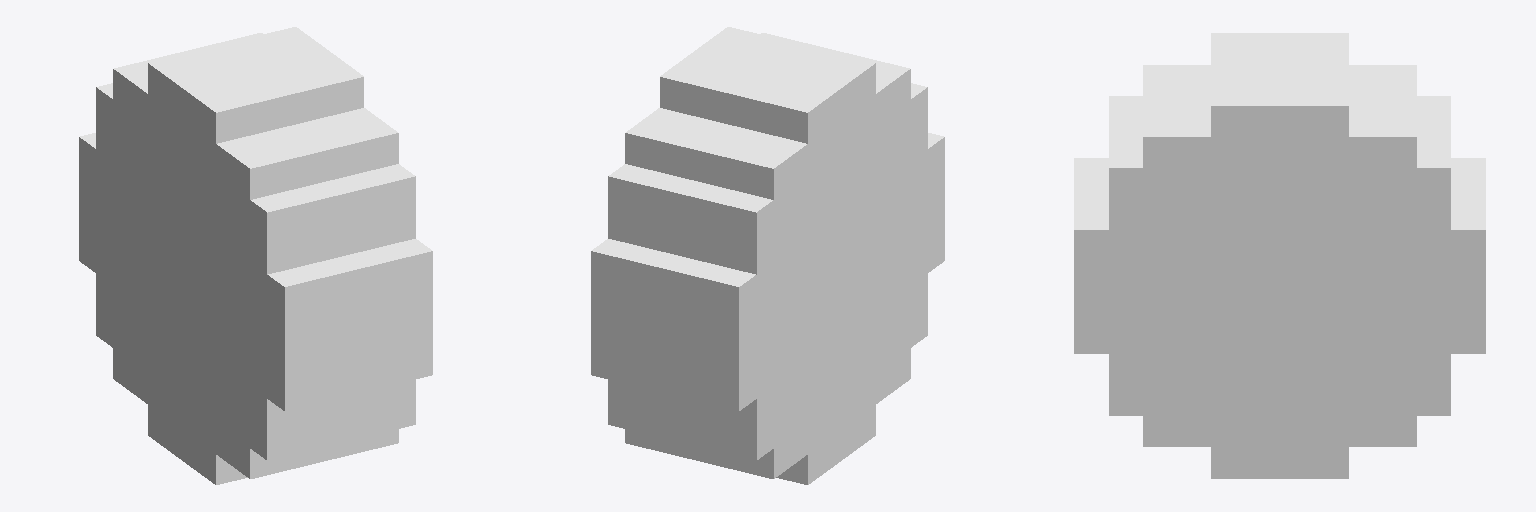
File: CarDamaged-1.obj
The picture shows the model from 3 angles: view 1: azimuth 30°, elevation 25°; view 2: azimuth 150°, elevation 25°; view 3: azimuth 270°, elevation 25°; orthographic projection.
Visible parts, largest first — view 1: object 1; view 2: object 1; view 3: object 1.
Part boxes in pixels (x1,y1,x2,y2): object 1: (79,27,432,484); object 1: (591,27,944,484); object 1: (1074,33,1485,478).
Bounding box in the file's own units: 0.5 × 1.2 × 1.2.